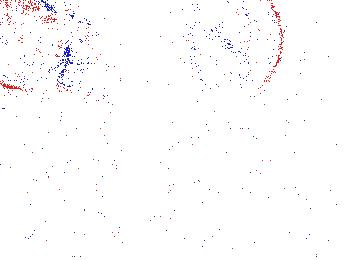moon jellyfish: (193, 1, 283, 99), (1, 1, 71, 91), (211, 85, 288, 159), (4, 11, 101, 65), (308, 59, 346, 145)
